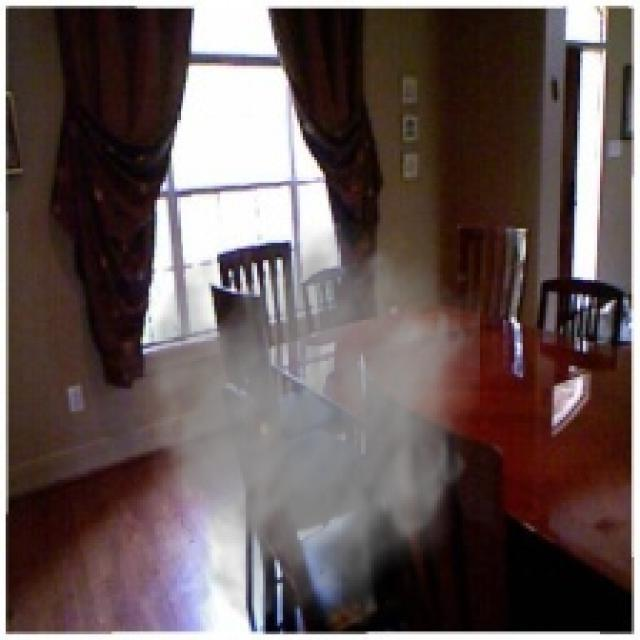Smoke: (114, 217, 480, 632)
